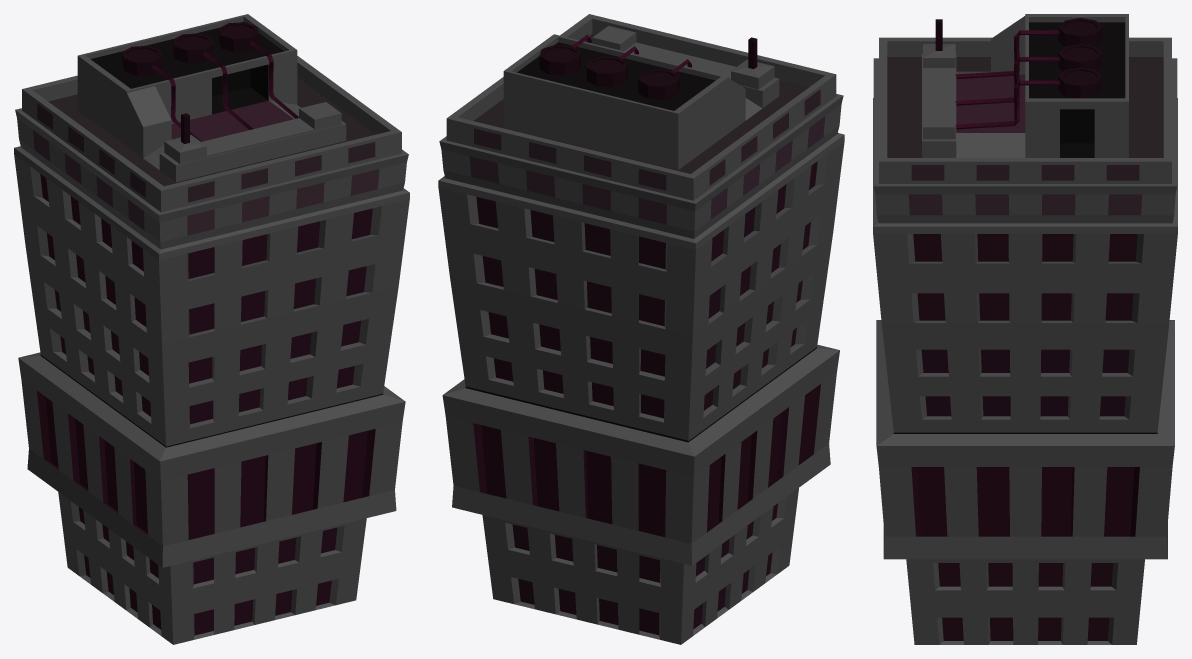
3 renders of one model, left to right at view 1: azimuth 30°, elevation 25°; view 2: azimuth 150°, elevation 25°; view 3: azimuth 270°, elevation 25°, orthographic. The views are drawn at different scales.
Visible parts, largest first — view 1: Plane.027; view 2: Plane.027; view 3: Plane.027.
Part boxes in pixels (x1=…): Plane.027: x1=14, y1=14, x2=409, y2=644; Plane.027: x1=438, y1=14, x2=844, y2=644; Plane.027: x1=873, y1=14, x2=1177, y2=644.
Bounding box in the file's own units: 3 × 5.96 × 3.
Materials: 1 (1 with a texture image).
